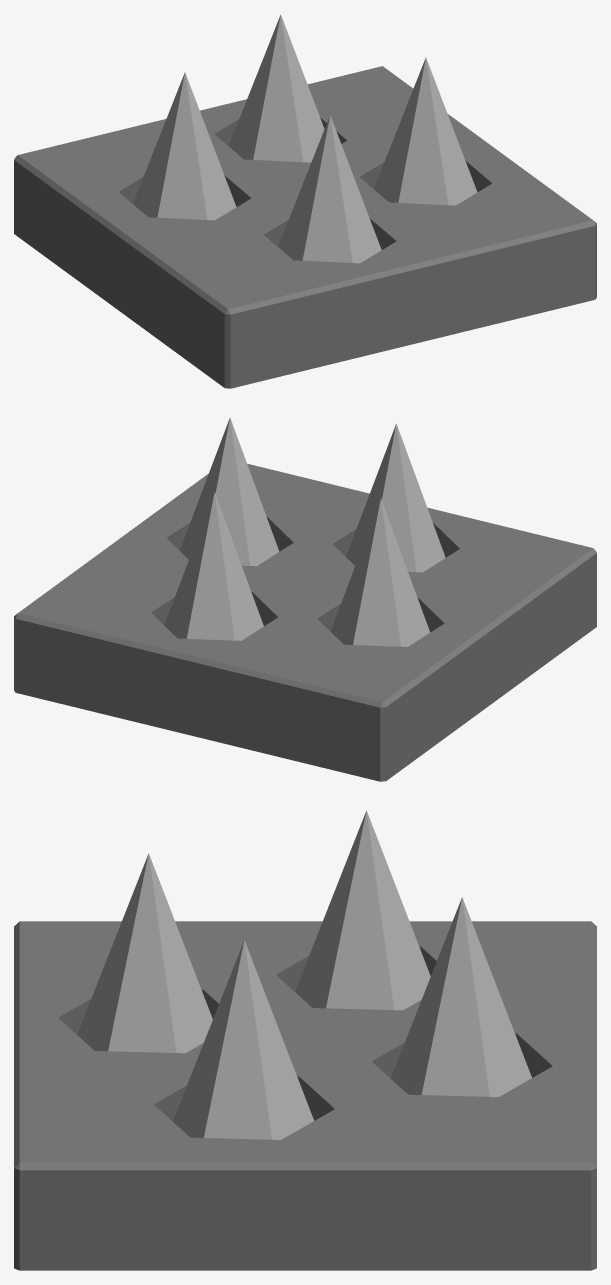
Rendered from HJD_FP_hazzard00.fbx.
3 views of the same model, one above another, from view 1: azimuth 30°, elevation 25°; view 2: azimuth 150°, elevation 25°; view 3: azimuth 270°, elevation 25° (orthographic). The views are drawn at different scales.
Parts seen in each view (by area): view 1: platform, spikes; view 2: platform, spikes; view 3: platform, spikes.
Part boxes in pixels (box(x1,y1,x2,y2)): platform: box(14, 66, 596, 388); spikes: box(133, 14, 477, 263); platform: box(14, 463, 596, 781); spikes: box(164, 417, 445, 646); platform: box(14, 921, 596, 1270); spikes: box(77, 810, 531, 1139).
Bounding box in the file's own units: 100 × 51.6 × 100.
